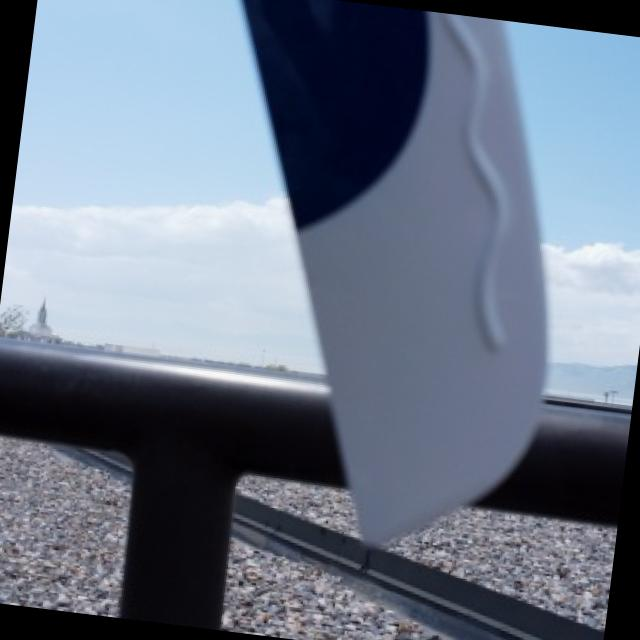healthy: (0, 0, 629, 627)
